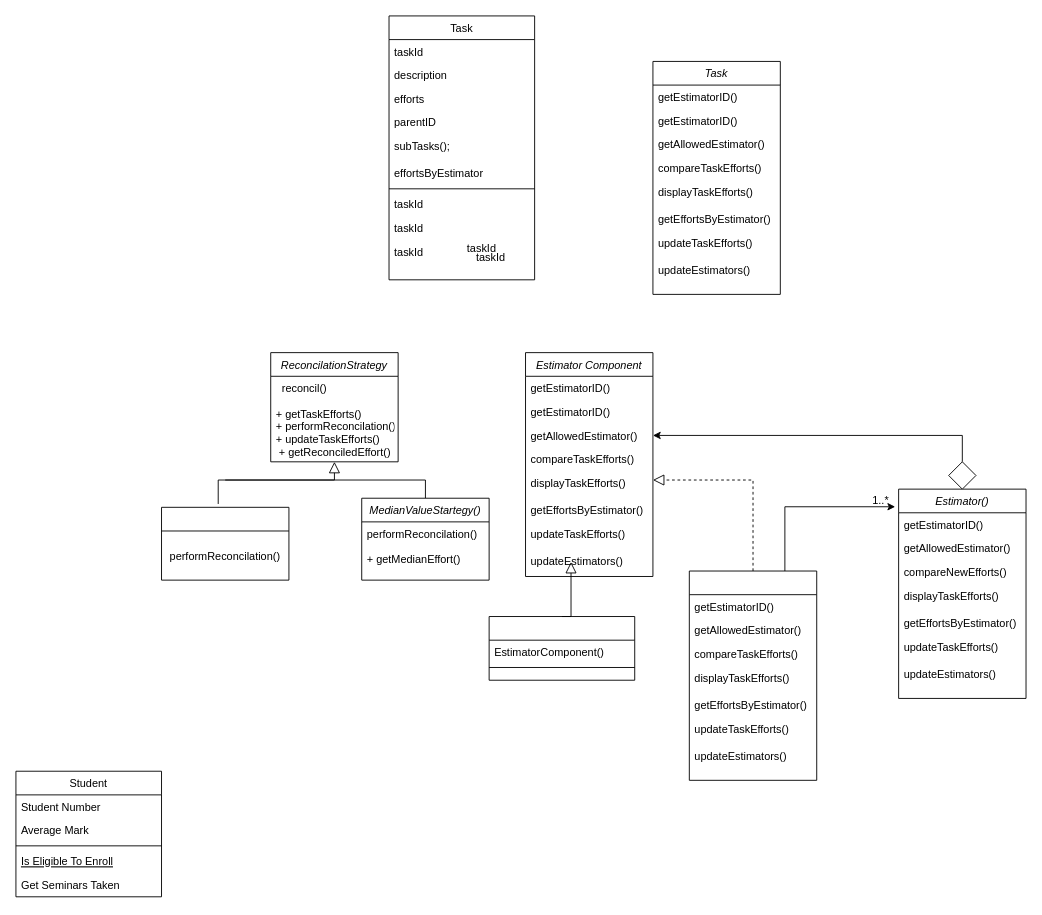
This 1042x915 diagram has some shape labels left out. The shapes that lost their labels are listed below. From the top down, each one's box as (x1, y1, x2, y2) in pixels, then its label:
(161, 506, 289, 580): HighestValueStartegy()
(488, 616, 635, 680): EffortsByEstimator()
(688, 570, 817, 780): EstimatorGroup()
